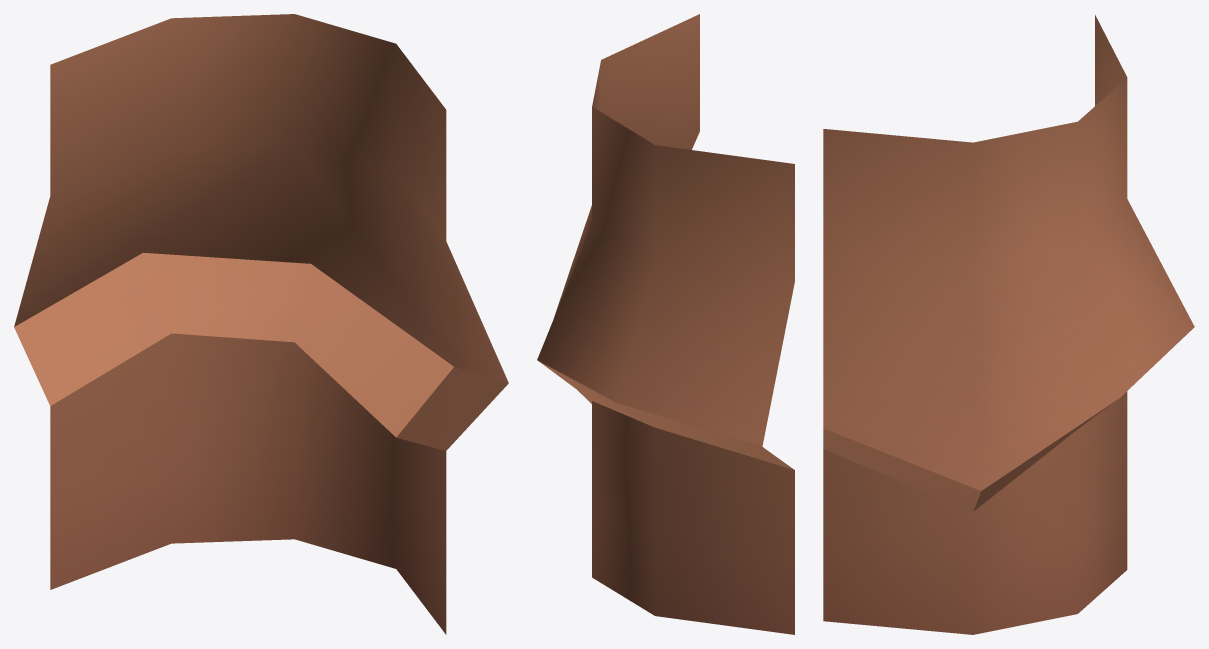
Rendered from Hill_Cliff_G_InnerCorner_Color8.fbx.
3 views of the same model, side by side, from view 1: azimuth 30°, elevation 25°; view 2: azimuth 150°, elevation 25°; view 3: azimuth 270°, elevation 25° (orthographic). The views are drawn at different scales.
Visible parts, largest first — view 1: Hill_Cliff_G_InnerCorner_Color8; view 2: Hill_Cliff_G_InnerCorner_Color8; view 3: Hill_Cliff_G_InnerCorner_Color8.
Boxes of the visible parts, box(x1,y1,x2,y2) form: Hill_Cliff_G_InnerCorner_Color8: box(14, 14, 508, 634); Hill_Cliff_G_InnerCorner_Color8: box(537, 14, 794, 634); Hill_Cliff_G_InnerCorner_Color8: box(823, 15, 1194, 634).
Bounding box in the file's own units: 1.37 × 2 × 1.37.
